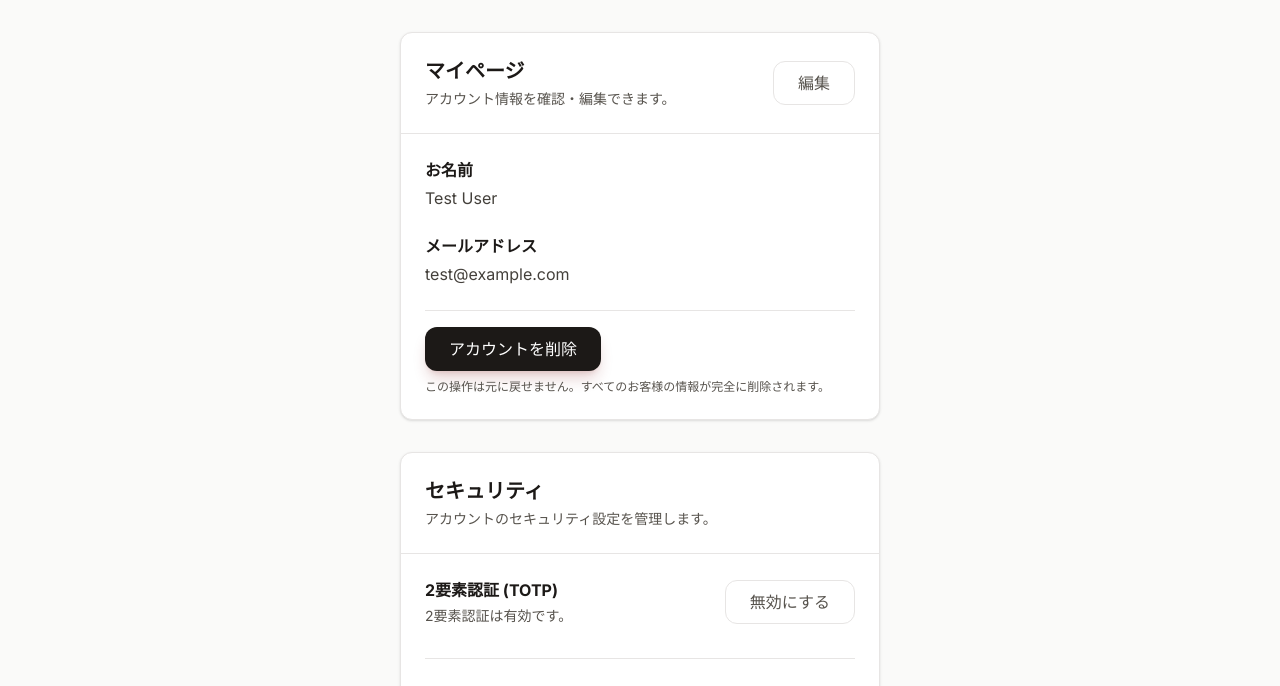
Test: MyPage › handles 2FA disablement
The image size is (1280, 686).
Step 1. Click the button "無効にする" → {"x": 790, "y": 602}, box [725,580,855,624]
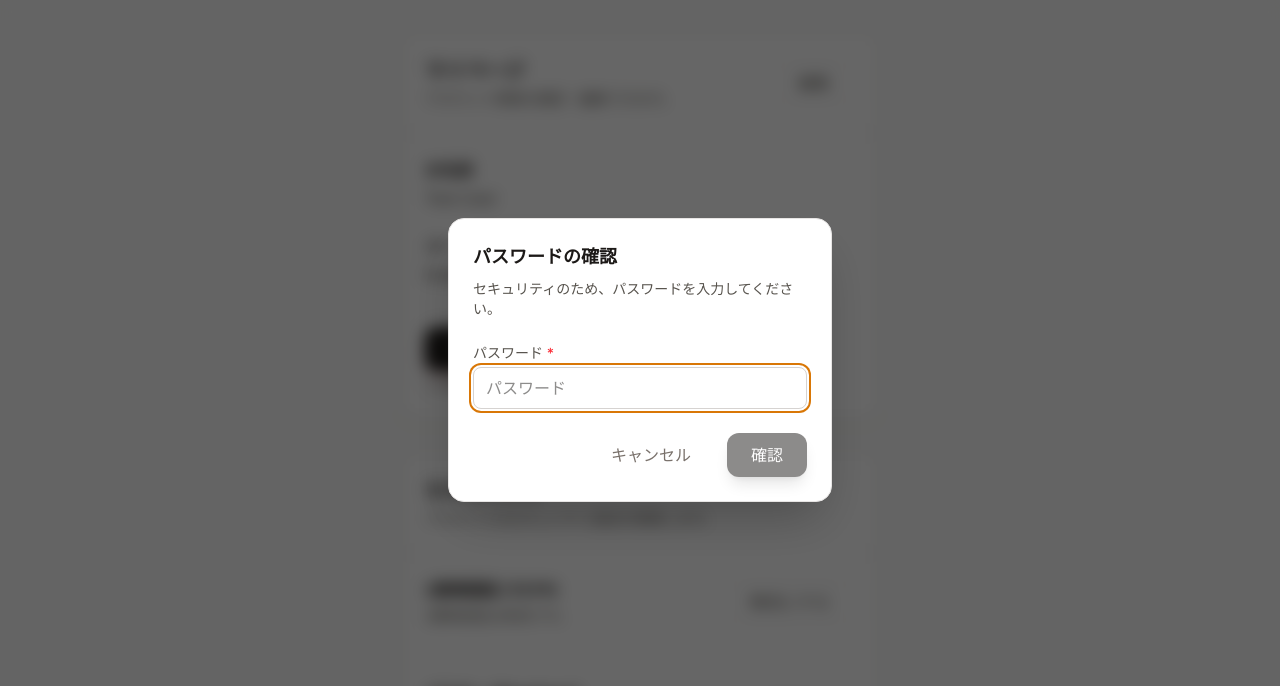
Step 2. Type "password123" into the password field labelled "パスワード *" → {"x": 640, "y": 388}, box [473,367,807,409]
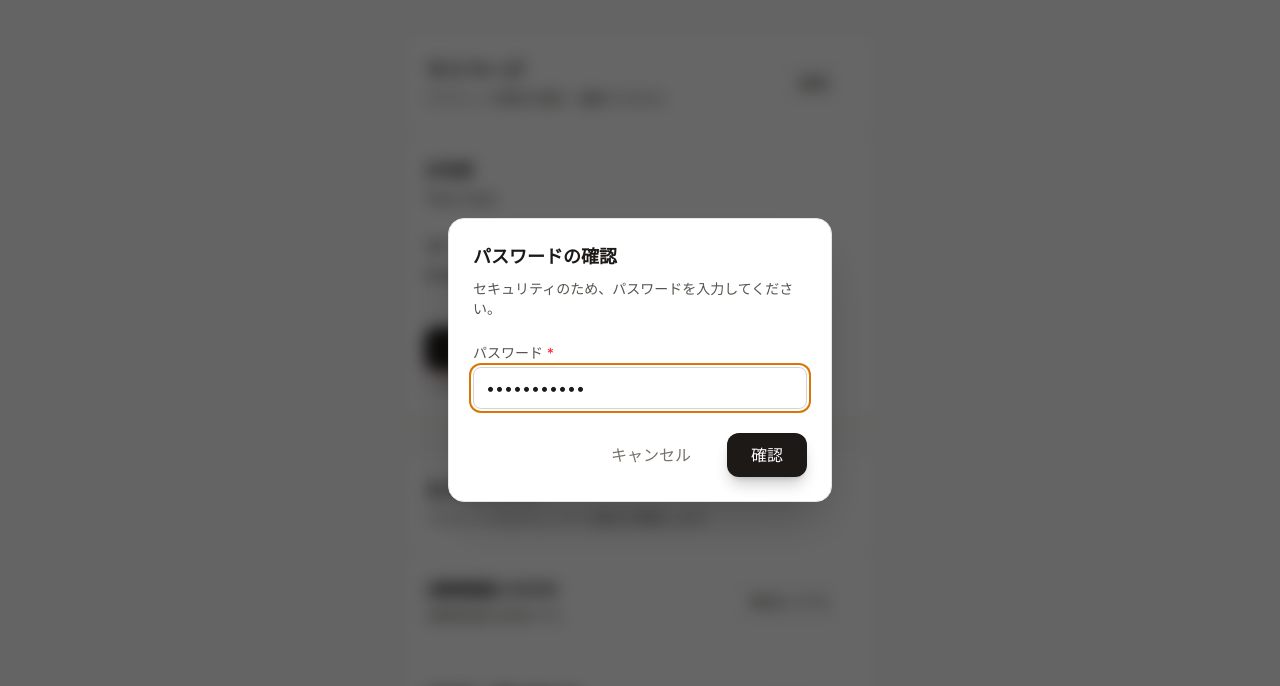
Step 3. Click the button "確認" → {"x": 767, "y": 455}, box [727,433,807,477]
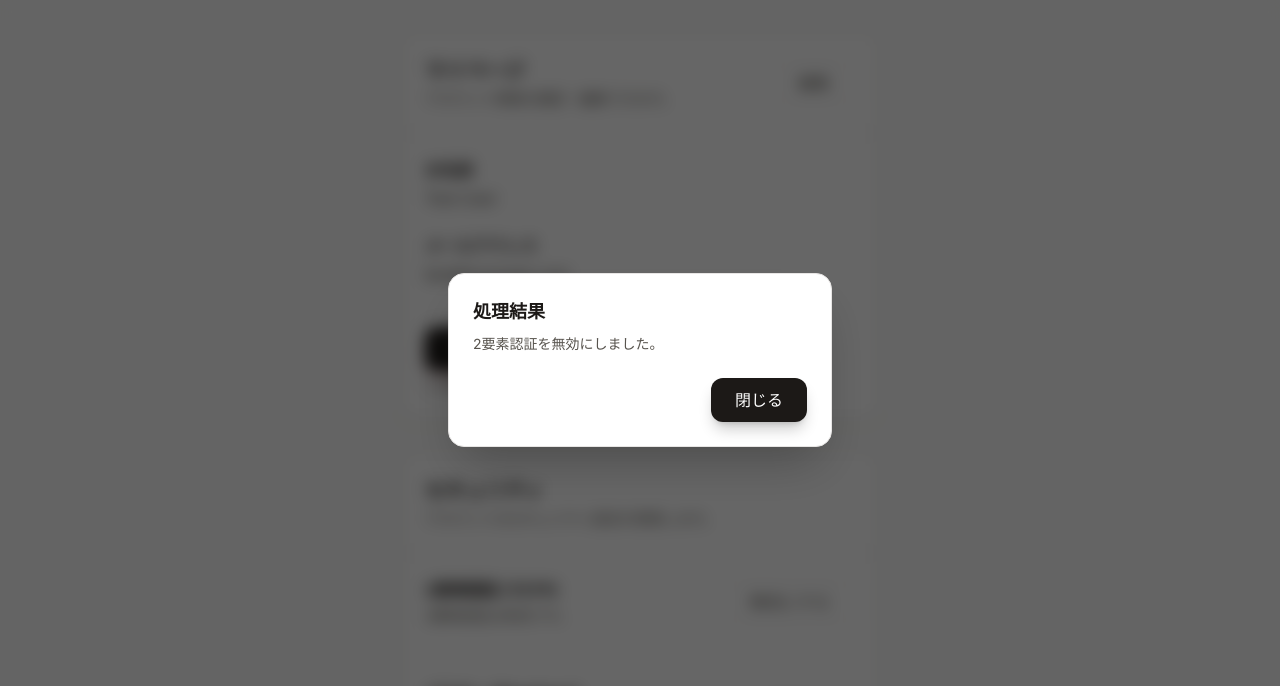
expect the text "2要素認証を無効にしました。" is shown: met, box [473,335,664,352]
